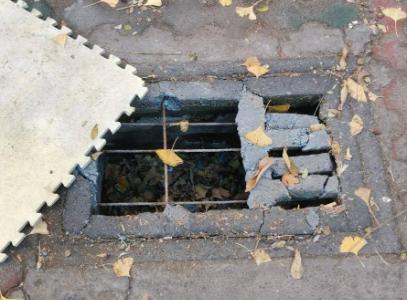wellcover: (51, 69, 378, 228)
